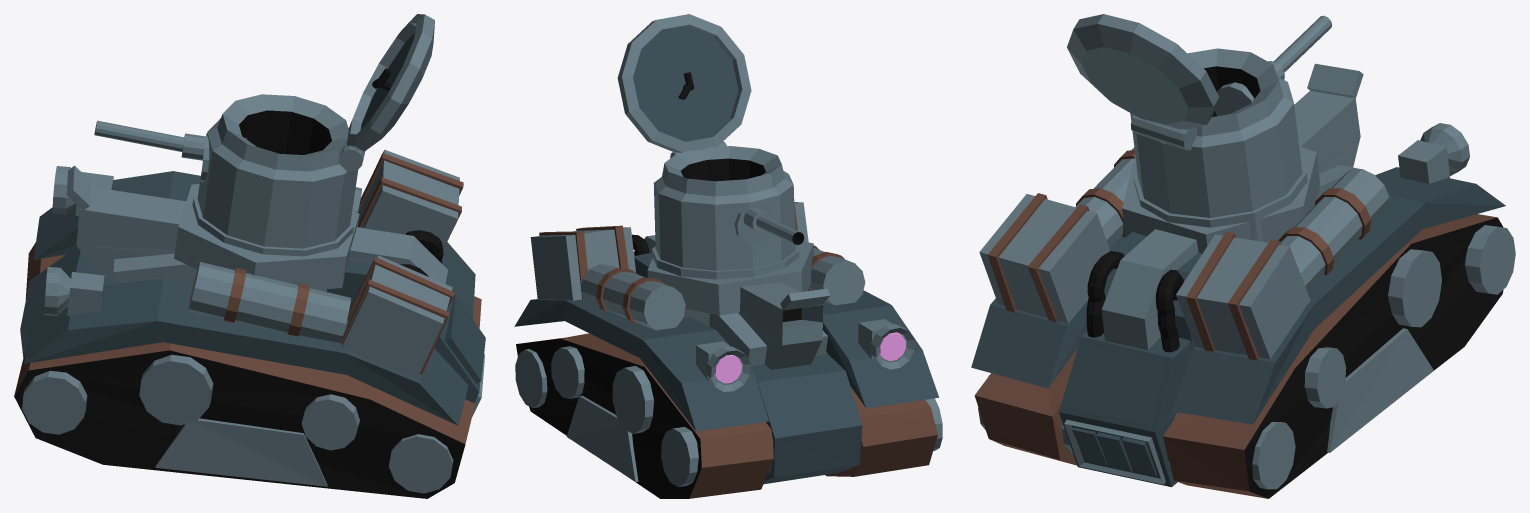
3 views of the same model, side by side, from view 1: azimuth 30°, elevation 25°; view 2: azimuth 150°, elevation 25°; view 3: azimuth 270°, elevation 25° (orthographic). The views are drawn at different scales.
Parts seen in each view (by area): view 1: node_MeshObject2120081664-PolyPaper17; view 2: node_MeshObject2120081664-PolyPaper17, node_MeshObject1951099712-PolyGem25; view 3: node_MeshObject2120081664-PolyPaper17.
Part boxes in pixels (x1,y1,x2,y2): node_MeshObject2120081664-PolyPaper17: (14, 14, 485, 498); node_MeshObject2120081664-PolyPaper17: (514, 14, 942, 498); node_MeshObject1951099712-PolyGem25: (714, 332, 905, 383); node_MeshObject2120081664-PolyPaper17: (971, 14, 1515, 498).
Bounding box in the file's own units: 0.6587 × 0.5725 × 0.6217.
